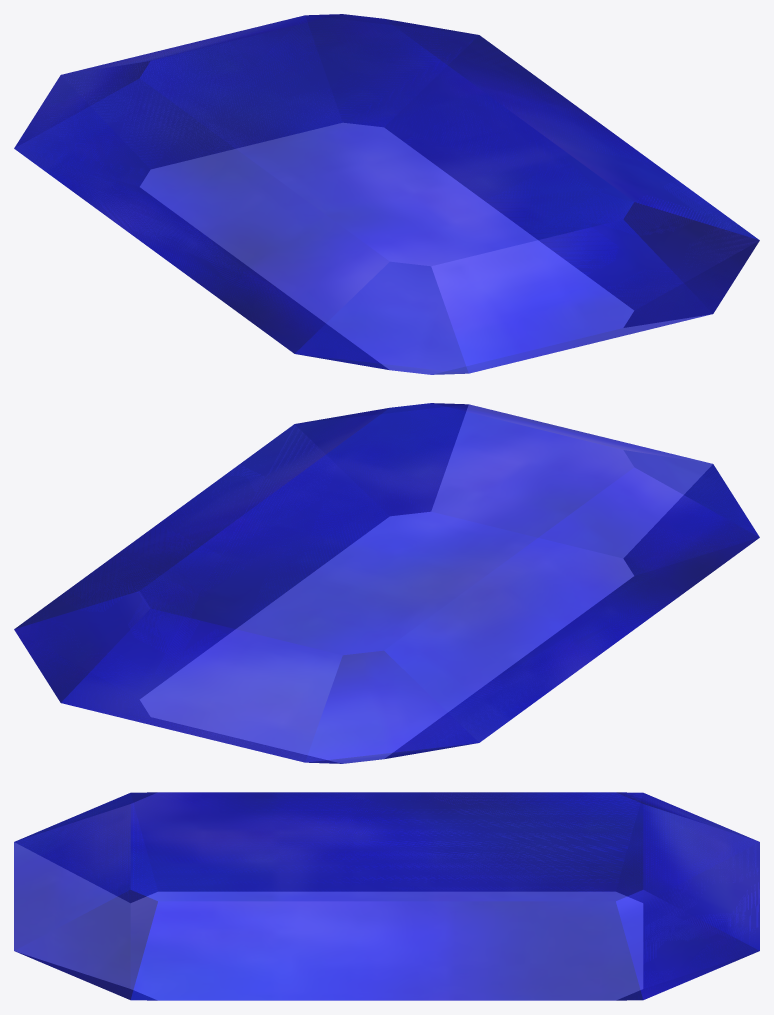
The model's file is original-21.obj.
3 renders of one model, top to bottom at view 1: azimuth 30°, elevation 25°; view 2: azimuth 150°, elevation 25°; view 3: azimuth 270°, elevation 25°, orthographic. The views are drawn at different scales.
Visible parts, largest first — view 1: Group20/mesh17/mesh17-geometry#mesh17-geometry; view 2: Group20/mesh17/mesh17-geometry#mesh17-geometry; view 3: Group20/mesh17/mesh17-geometry#mesh17-geometry.
Part boxes in pixels (x1,y1,x2,y2): Group20/mesh17/mesh17-geometry#mesh17-geometry: (14,14,759,374); Group20/mesh17/mesh17-geometry#mesh17-geometry: (14,403,759,763); Group20/mesh17/mesh17-geometry#mesh17-geometry: (14,792,759,1000).
Size of the model in its own units: 0.0586 by 0.0131 by 0.089.
2 materials, 1 textured.
